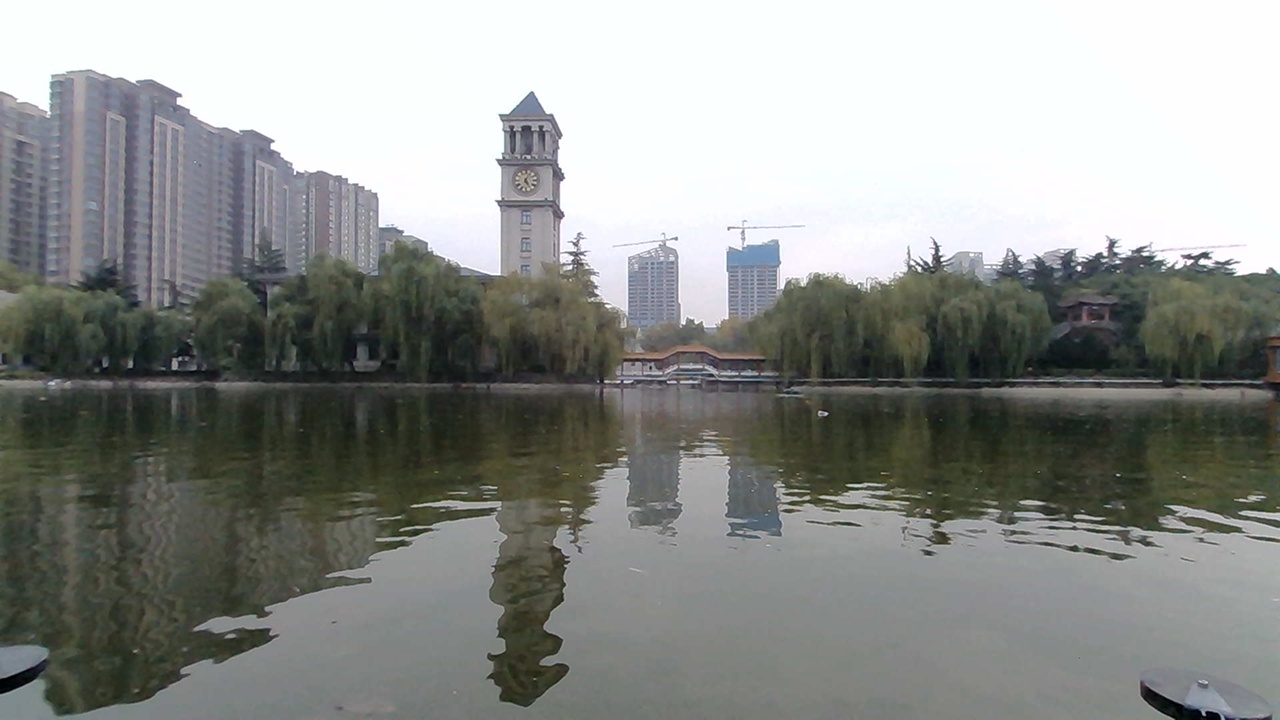bottle: (802, 400, 848, 424)
